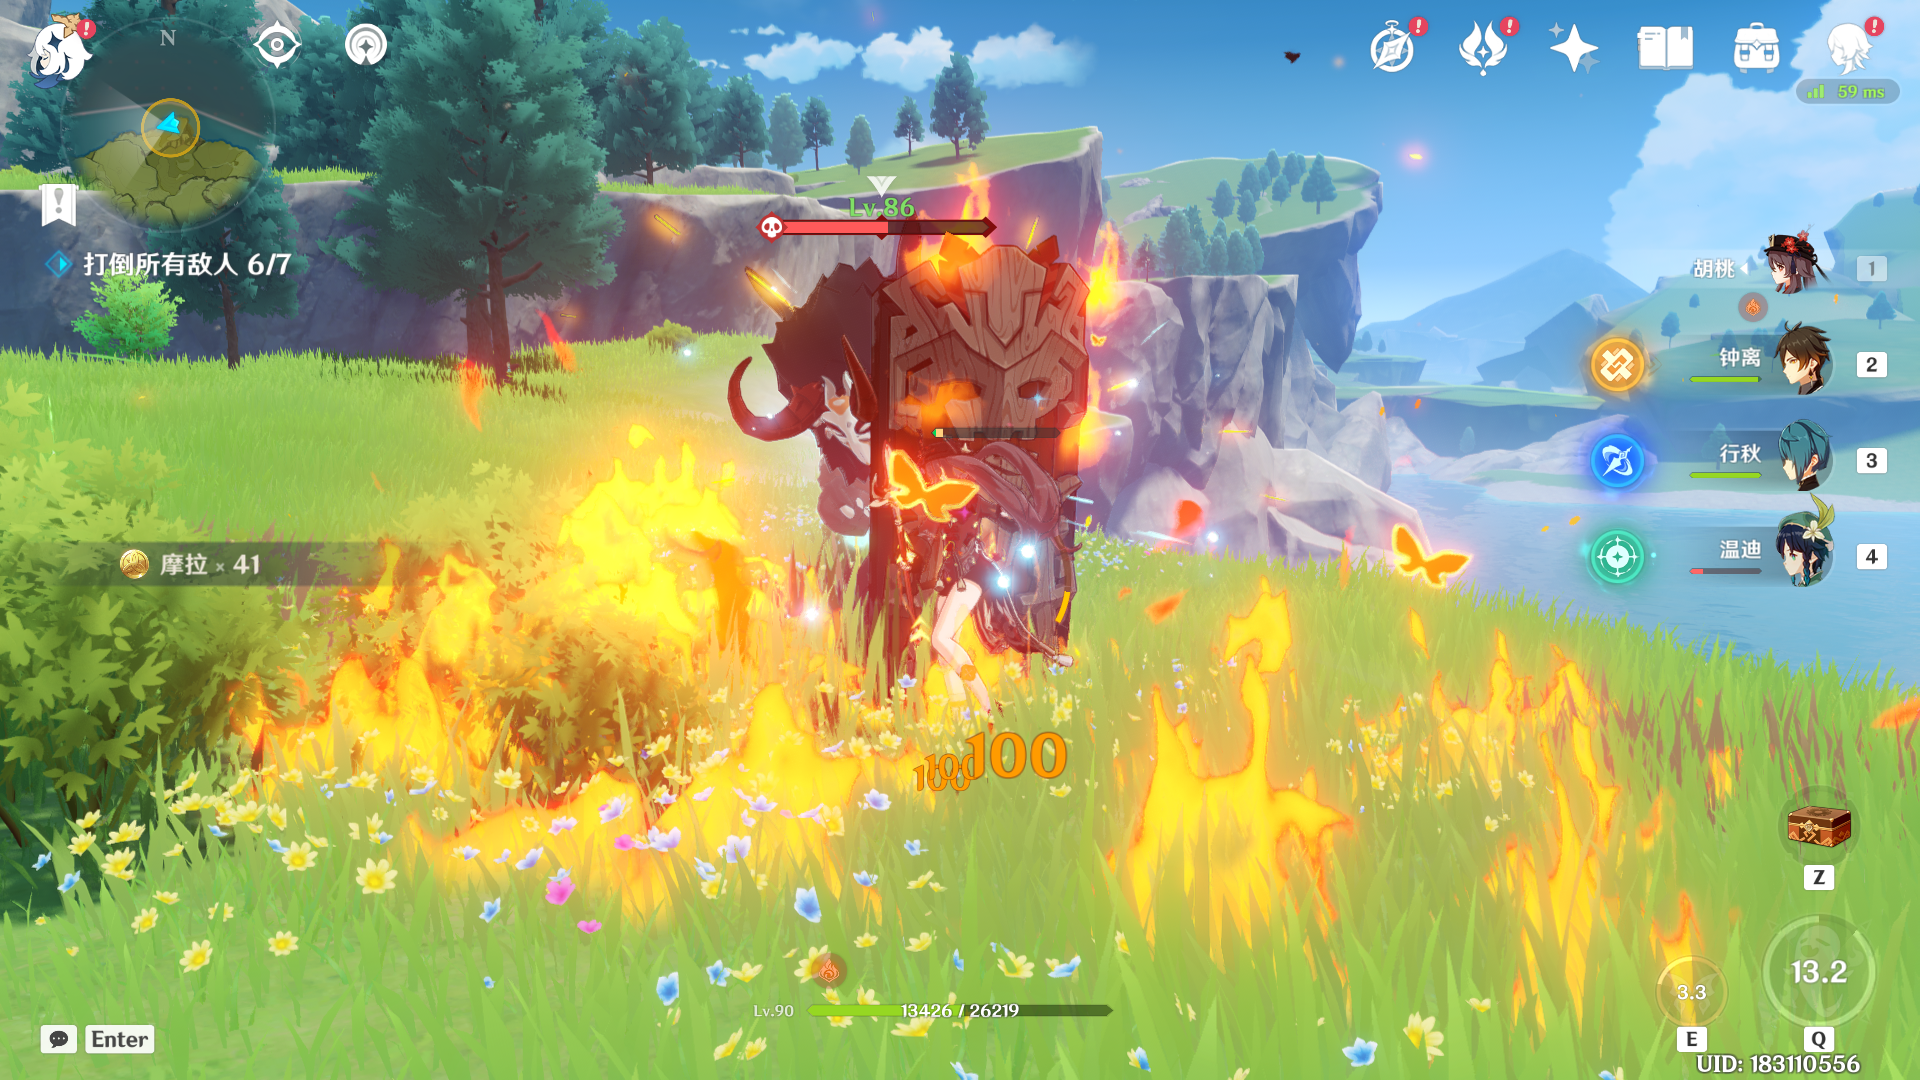bighili: (702, 206, 1147, 731)
